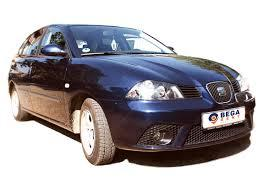windshield: (65, 25, 178, 59)
